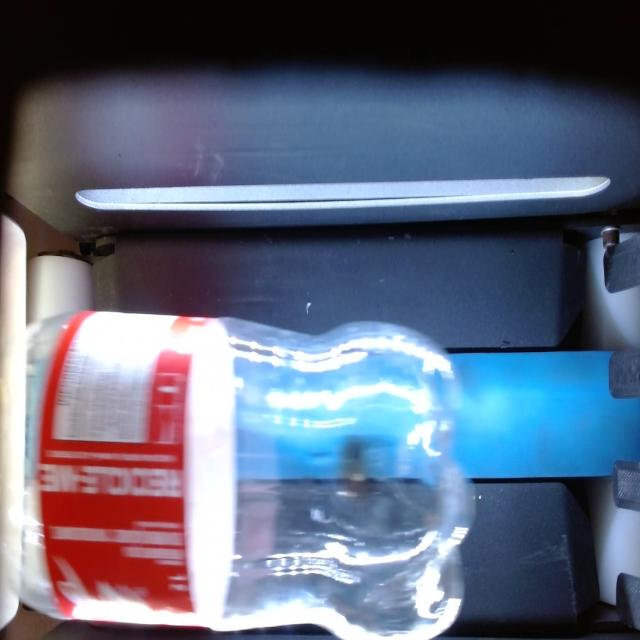bottom: (390, 310, 473, 640)
